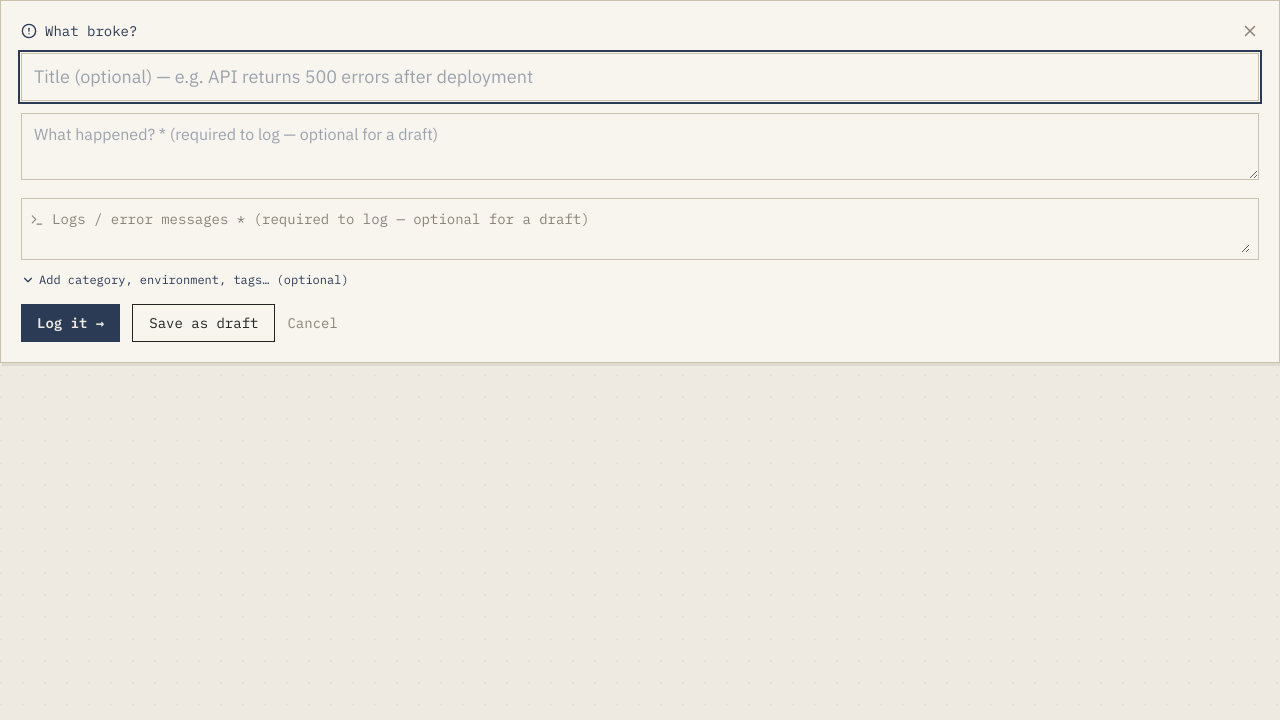
Test: new entry form › shows an API error when saving a draft fails
Click the button "Save as draft" at [204, 323], box [132, 304, 275, 342]
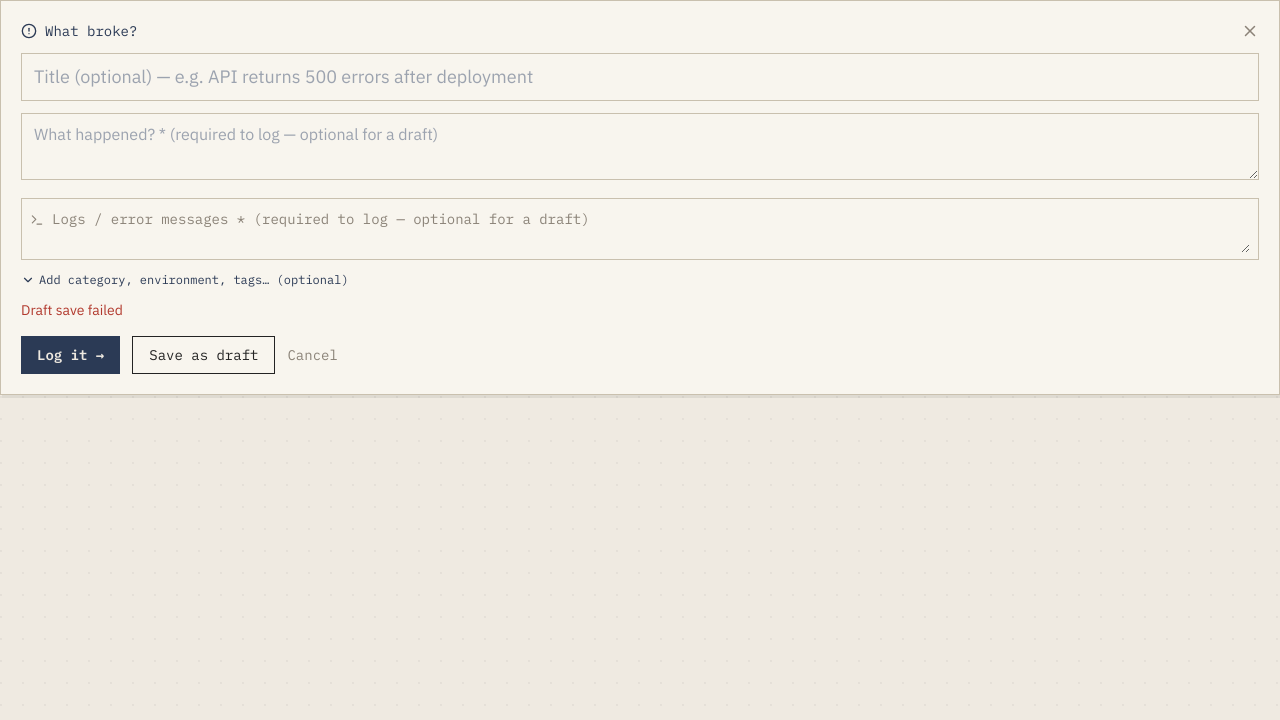
Expected: the button "Save as draft" is enabled, [132, 336, 275, 374]
Expected: the text "Draft save failed" is shown, [21, 301, 123, 319]
